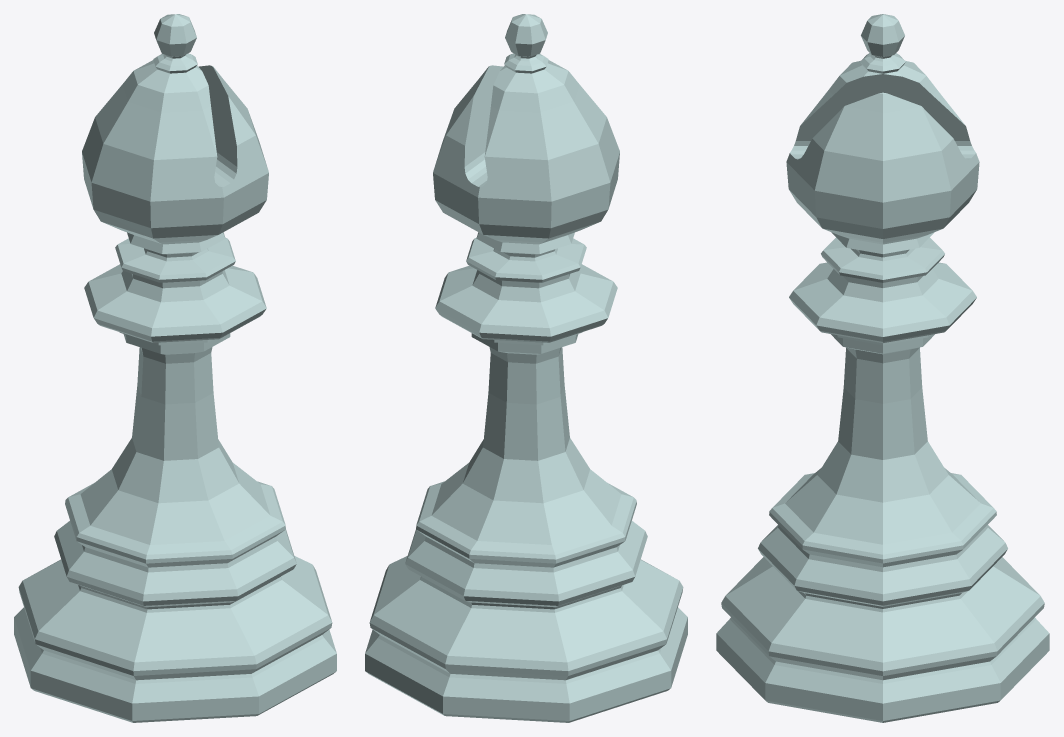
File: white-bishop.obj
3 views of the same model, side by side, from view 1: azimuth 30°, elevation 25°; view 2: azimuth 150°, elevation 25°; view 3: azimuth 270°, elevation 25° (orthographic).
Parts seen in each view (by area): view 1: White_Bishop_01_White_Square_0; view 2: White_Bishop_01_White_Square_0; view 3: White_Bishop_01_White_Square_0.
Boxes of the visible parts, left/top/right/bottom form: White_Bishop_01_White_Square_0: left=14, top=14, right=336, bottom=722; White_Bishop_01_White_Square_0: left=365, top=14, right=687, bottom=722; White_Bishop_01_White_Square_0: left=716, top=14, right=1049, bottom=722.
Bounding box in the file's own units: 4 × 8.48 × 4.
